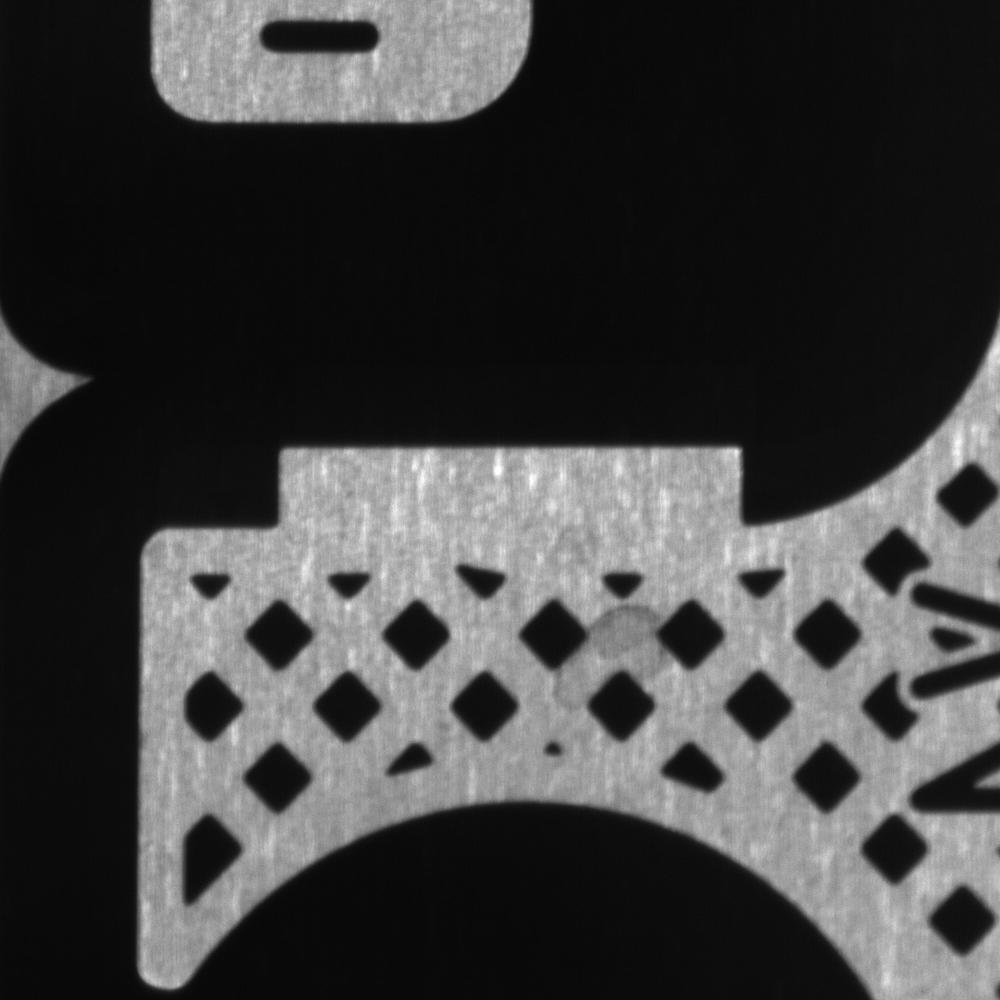Discolor: (552, 589, 675, 711)
